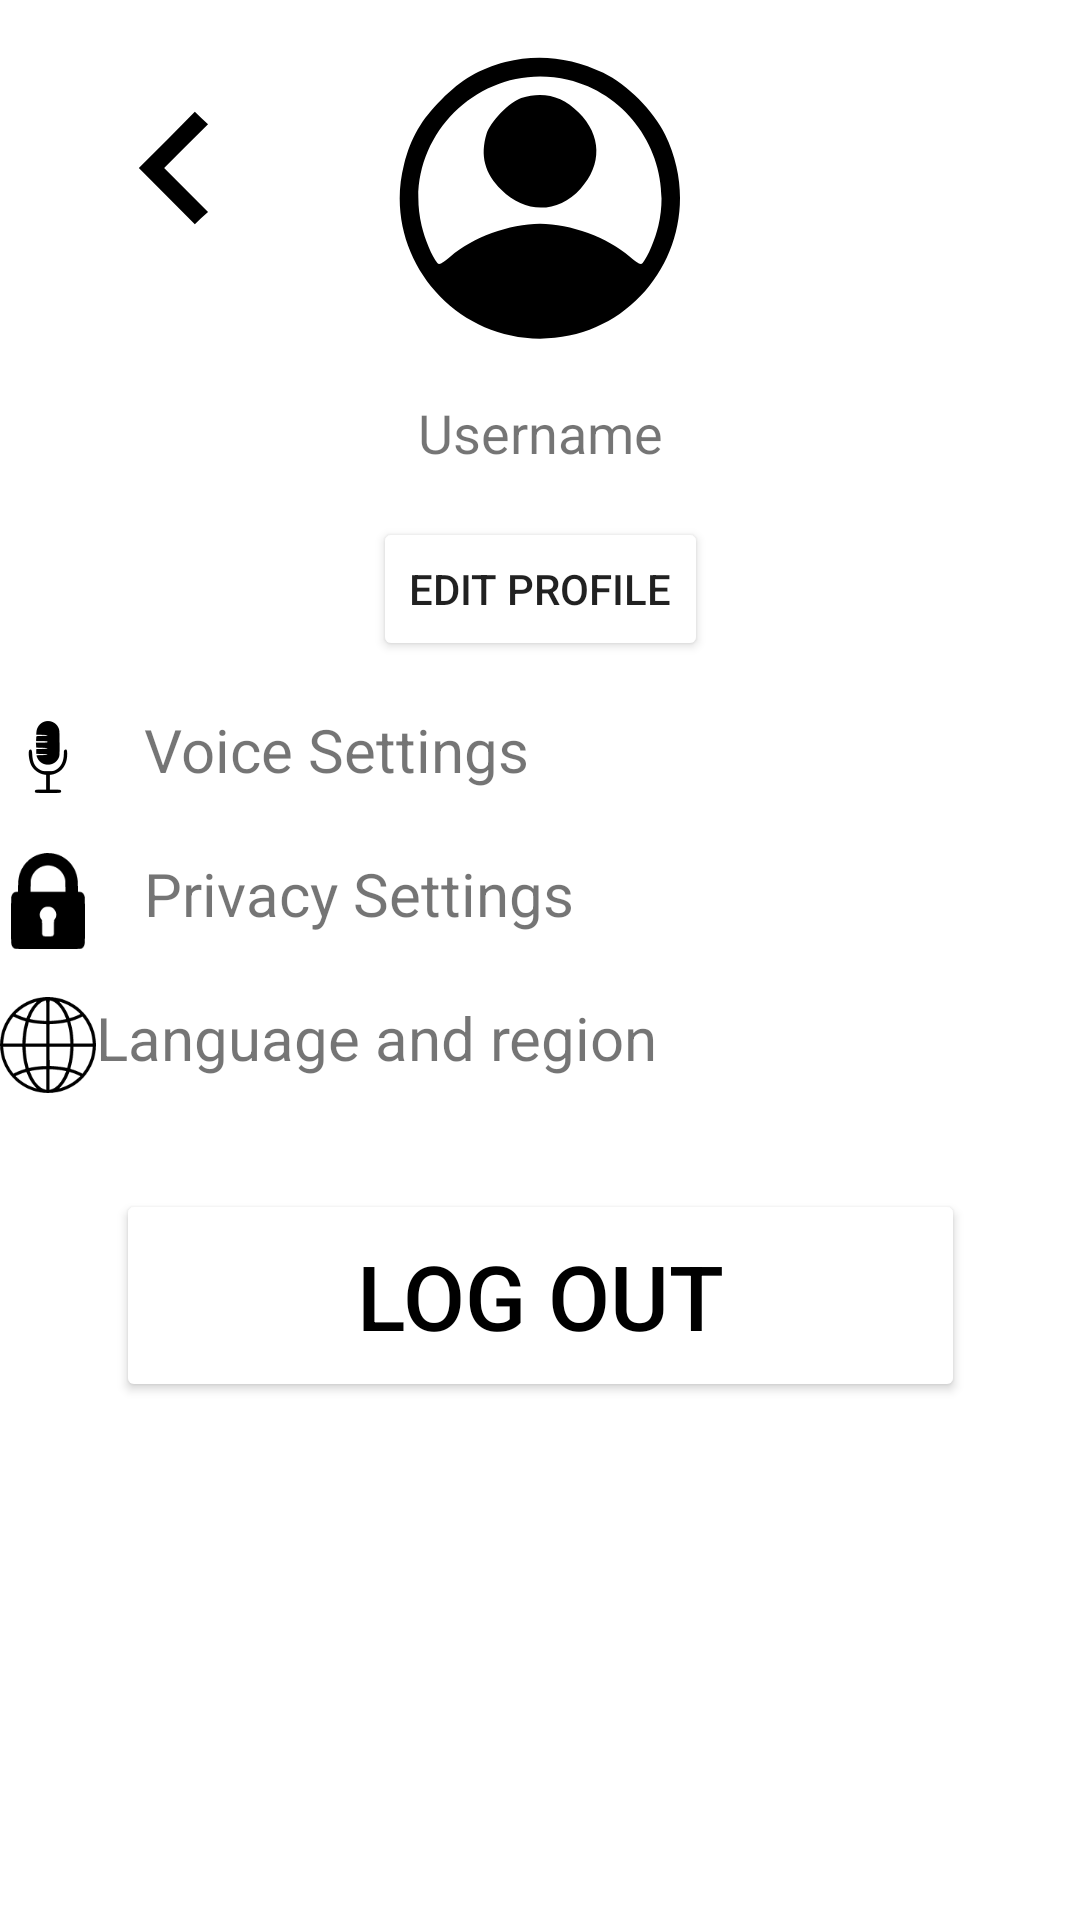

Where to tap for icons on this 1080px×1920px app screen, as (x,y):
backarrow: (173,168)
globe: (48,1045)
lock: (48,901)
profile: (539,198)
